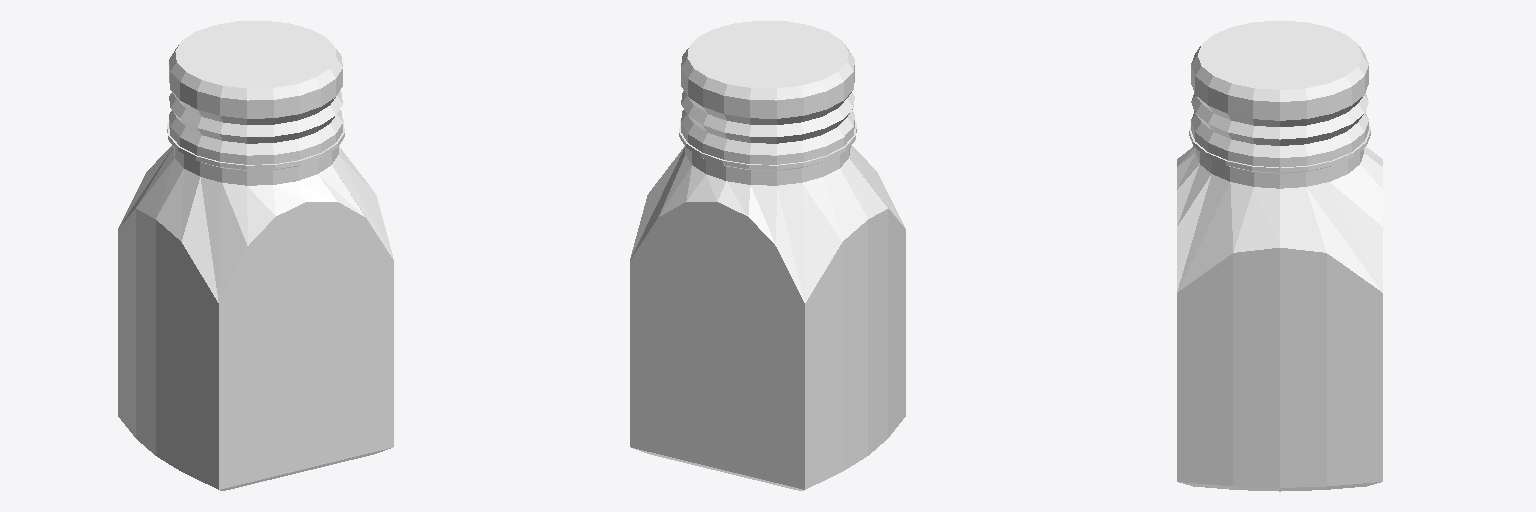
The robot description file, URDF, robot "shaker_3":
<?xml version="1.0"?>
<robot name="shaker_3">
  <material name="lambert1.038">
    <texture filename="visual/image0.png" />
    <color rgba="1 1 1 1" />
  </material>

  <link name="base_link">
    <inertial>
      <origin xyz="0 0 0" rpy="0 0 0" />
      <mass value="0.5" />
      <inertia ixx="0.001" ixy="0" ixz="0" iyy="0.001" iyz="0" izz="0.001" />
    </inertial>
    <visual>
      <origin xyz="0 0 0" rpy="0 0 0" />
      <geometry>
        <mesh filename="visual/model_normalized_0.obj" scale="0.095 0.095 0.095" />
      </geometry>
      <material name="lambert1.038" />
    </visual>

    <collision>
      <origin xyz="0 0 0" rpy="0 0 0" />
      <geometry>
        <mesh filename="collision/model_normalized_collision_22.obj" scale="0.095 0.095 0.095" />
      </geometry>
    </collision>
    <collision>
      <origin xyz="0 0 0" rpy="0 0 0" />
      <geometry>
        <mesh filename="collision/model_normalized_collision_23.obj" scale="0.095 0.095 0.095" />
      </geometry>
    </collision>
    <collision>
      <origin xyz="0 0 0" rpy="0 0 0" />
      <geometry>
        <mesh filename="collision/model_normalized_collision_21.obj" scale="0.095 0.095 0.095" />
      </geometry>
    </collision>
    <collision>
      <origin xyz="0 0 0" rpy="0 0 0" />
      <geometry>
        <mesh filename="collision/model_normalized_collision_20.obj" scale="0.095 0.095 0.095" />
      </geometry>
    </collision>
    <collision>
      <origin xyz="0 0 0" rpy="0 0 0" />
      <geometry>
        <mesh filename="collision/model_normalized_collision_24.obj" scale="0.095 0.095 0.095" />
      </geometry>
    </collision>
    <collision>
      <origin xyz="0 0 0" rpy="0 0 0" />
      <geometry>
        <mesh filename="collision/model_normalized_collision_30.obj" scale="0.095 0.095 0.095" />
      </geometry>
    </collision>
    <collision>
      <origin xyz="0 0 0" rpy="0 0 0" />
      <geometry>
        <mesh filename="collision/model_normalized_collision_18.obj" scale="0.095 0.095 0.095" />
      </geometry>
    </collision>
    <collision>
      <origin xyz="0 0 0" rpy="0 0 0" />
      <geometry>
        <mesh filename="collision/model_normalized_collision_19.obj" scale="0.095 0.095 0.095" />
      </geometry>
    </collision>
    <collision>
      <origin xyz="0 0 0" rpy="0 0 0" />
      <geometry>
        <mesh filename="collision/model_normalized_collision_31.obj" scale="0.095 0.095 0.095" />
      </geometry>
    </collision>
    <collision>
      <origin xyz="0 0 0" rpy="0 0 0" />
      <geometry>
        <mesh filename="collision/model_normalized_collision_25.obj" scale="0.095 0.095 0.095" />
      </geometry>
    </collision>
    <collision>
      <origin xyz="0 0 0" rpy="0 0 0" />
      <geometry>
        <mesh filename="collision/model_normalized_collision_27.obj" scale="0.095 0.095 0.095" />
      </geometry>
    </collision>
    <collision>
      <origin xyz="0 0 0" rpy="0 0 0" />
      <geometry>
        <mesh filename="collision/model_normalized_collision_26.obj" scale="0.095 0.095 0.095" />
      </geometry>
    </collision>
    <collision>
      <origin xyz="0 0 0" rpy="0 0 0" />
      <geometry>
        <mesh filename="collision/model_normalized_collision_9.obj" scale="0.095 0.095 0.095" />
      </geometry>
    </collision>
    <collision>
      <origin xyz="0 0 0" rpy="0 0 0" />
      <geometry>
        <mesh filename="collision/model_normalized_collision_8.obj" scale="0.095 0.095 0.095" />
      </geometry>
    </collision>
    <collision>
      <origin xyz="0 0 0" rpy="0 0 0" />
      <geometry>
        <mesh filename="collision/model_normalized_collision_6.obj" scale="0.095 0.095 0.095" />
      </geometry>
    </collision>
    <collision>
      <origin xyz="0 0 0" rpy="0 0 0" />
      <geometry>
        <mesh filename="collision/model_normalized_collision_7.obj" scale="0.095 0.095 0.095" />
      </geometry>
    </collision>
    <collision>
      <origin xyz="0 0 0" rpy="0 0 0" />
      <geometry>
        <mesh filename="collision/model_normalized_collision_5.obj" scale="0.095 0.095 0.095" />
      </geometry>
    </collision>
    <collision>
      <origin xyz="0 0 0" rpy="0 0 0" />
      <geometry>
        <mesh filename="collision/model_normalized_collision_4.obj" scale="0.095 0.095 0.095" />
      </geometry>
    </collision>
    <collision>
      <origin xyz="0 0 0" rpy="0 0 0" />
      <geometry>
        <mesh filename="collision/model_normalized_collision_0.obj" scale="0.095 0.095 0.095" />
      </geometry>
    </collision>
    <collision>
      <origin xyz="0 0 0" rpy="0 0 0" />
      <geometry>
        <mesh filename="collision/model_normalized_collision_1.obj" scale="0.095 0.095 0.095" />
      </geometry>
    </collision>
    <collision>
      <origin xyz="0 0 0" rpy="0 0 0" />
      <geometry>
        <mesh filename="collision/model_normalized_collision_3.obj" scale="0.095 0.095 0.095" />
      </geometry>
    </collision>
    <collision>
      <origin xyz="0 0 0" rpy="0 0 0" />
      <geometry>
        <mesh filename="collision/model_normalized_collision_2.obj" scale="0.095 0.095 0.095" />
      </geometry>
    </collision>
    <collision>
      <origin xyz="0 0 0" rpy="0 0 0" />
      <geometry>
        <mesh filename="collision/model_normalized_collision_17.obj" scale="0.095 0.095 0.095" />
      </geometry>
    </collision>
    <collision>
      <origin xyz="0 0 0" rpy="0 0 0" />
      <geometry>
        <mesh filename="collision/model_normalized_collision_16.obj" scale="0.095 0.095 0.095" />
      </geometry>
    </collision>
    <collision>
      <origin xyz="0 0 0" rpy="0 0 0" />
      <geometry>
        <mesh filename="collision/model_normalized_collision_28.obj" scale="0.095 0.095 0.095" />
      </geometry>
    </collision>
    <collision>
      <origin xyz="0 0 0" rpy="0 0 0" />
      <geometry>
        <mesh filename="collision/model_normalized_collision_14.obj" scale="0.095 0.095 0.095" />
      </geometry>
    </collision>
    <collision>
      <origin xyz="0 0 0" rpy="0 0 0" />
      <geometry>
        <mesh filename="collision/model_normalized_collision_15.obj" scale="0.095 0.095 0.095" />
      </geometry>
    </collision>
    <collision>
      <origin xyz="0 0 0" rpy="0 0 0" />
      <geometry>
        <mesh filename="collision/model_normalized_collision_29.obj" scale="0.095 0.095 0.095" />
      </geometry>
    </collision>
    <collision>
      <origin xyz="0 0 0" rpy="0 0 0" />
      <geometry>
        <mesh filename="collision/model_normalized_collision_11.obj" scale="0.095 0.095 0.095" />
      </geometry>
    </collision>
    <collision>
      <origin xyz="0 0 0" rpy="0 0 0" />
      <geometry>
        <mesh filename="collision/model_normalized_collision_10.obj" scale="0.095 0.095 0.095" />
      </geometry>
    </collision>
    <collision>
      <origin xyz="0 0 0" rpy="0 0 0" />
      <geometry>
        <mesh filename="collision/model_normalized_collision_12.obj" scale="0.095 0.095 0.095" />
      </geometry>
    </collision>
    <collision>
      <origin xyz="0 0 0" rpy="0 0 0" />
      <geometry>
        <mesh filename="collision/model_normalized_collision_13.obj" scale="0.095 0.095 0.095" />
      </geometry>
    </collision>
  </link>
</robot>

--- What the picture shows (computed from the rendered views, not written in the file) ---
3 views of the same robot in one strip: view 1: azimuth 30°, elevation 25°; view 2: azimuth 150°, elevation 25°; view 3: azimuth 270°, elevation 25° (orthographic).
Robot: shaker_3 — 1 links, 0 joints (none); root link base_link; default pose: all joints at 0.
Links seen in each view (by area): view 1: base_link; view 2: base_link; view 3: base_link.
Boxes of the visible links, x1,y1,x2,y2 form: base_link: (118, 20, 393, 490); base_link: (630, 20, 905, 490); base_link: (1177, 21, 1382, 491).
Bounding box of the posed robot: 0.0515 × 0.0451 × 0.095 m (x, y, z).
1 mesh visuals loaded from 1 distinct referenced files (1 OBJ).